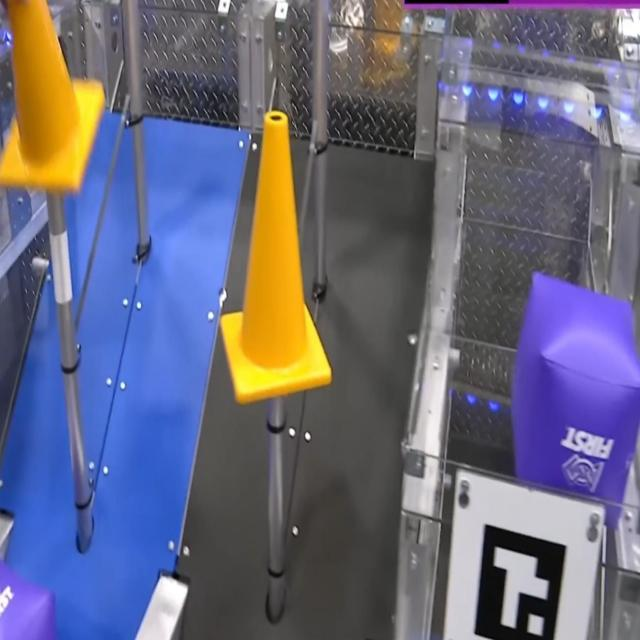frc_cone: (216, 119, 335, 408), (0, 0, 102, 194)
frc_cube: (505, 271, 640, 517), (0, 572, 58, 640)
